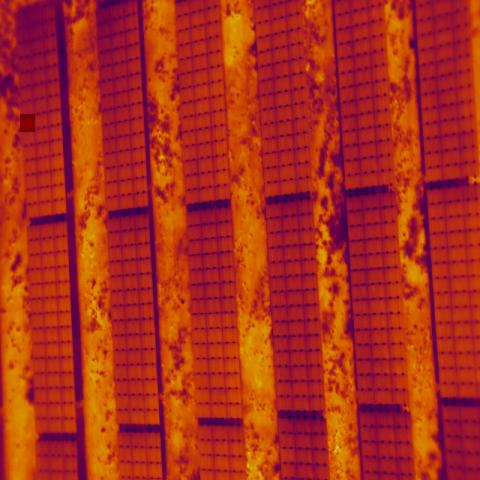fault: (20, 114, 35, 132)
